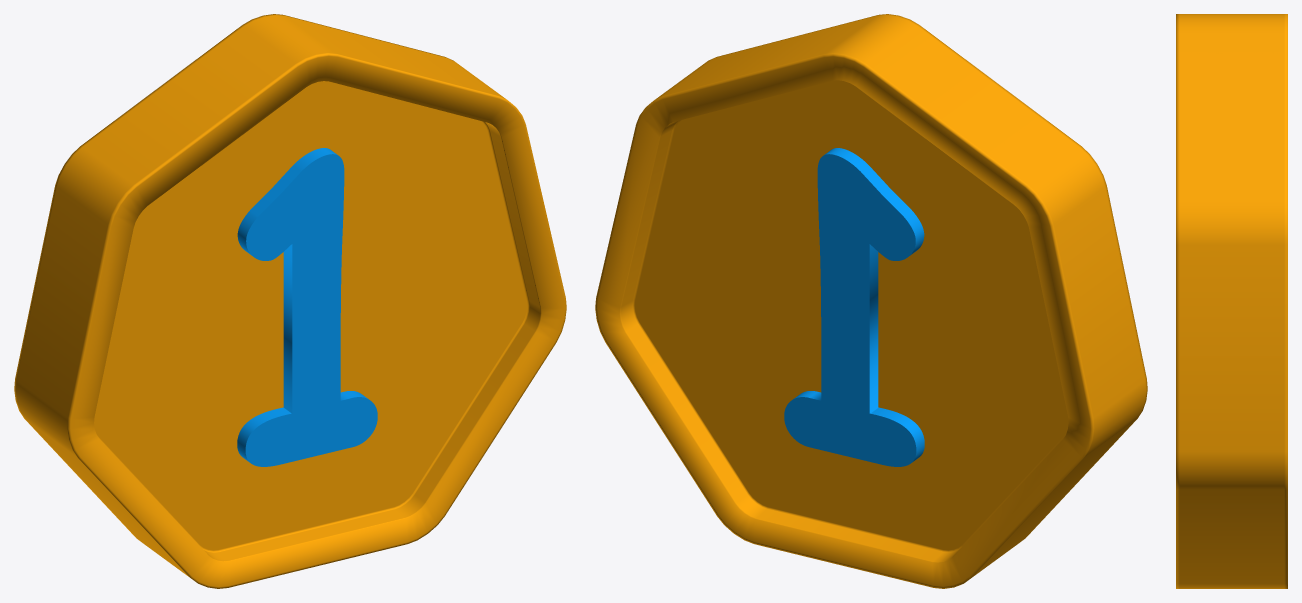
Rendered from Coin.fbx.
The picture shows the model from 3 angles, left to right: view 1: azimuth 30°, elevation 25°; view 2: azimuth 150°, elevation 25°; view 3: azimuth 270°, elevation 25°; orthographic projection.
Visible parts, largest first — view 1: Cylinder, Text; view 2: Cylinder, Text; view 3: Cylinder.
Boxes of the visible parts, box(x1,y1,x2,y2) form: Cylinder: box(14, 14, 566, 588); Text: box(237, 148, 377, 466); Cylinder: box(595, 14, 1147, 588); Text: box(784, 148, 924, 466); Cylinder: box(1176, 14, 1287, 588).
Size of the model in its own units: 192 by 188 by 36.6.
